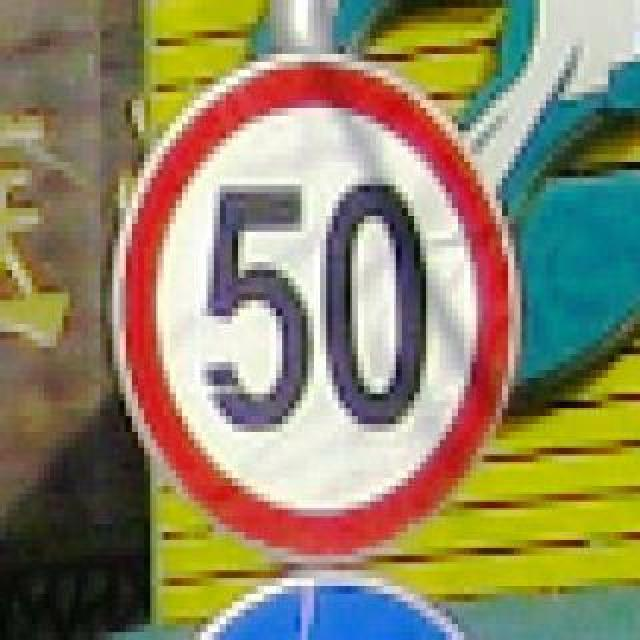50 kph: (108, 40, 516, 556)
